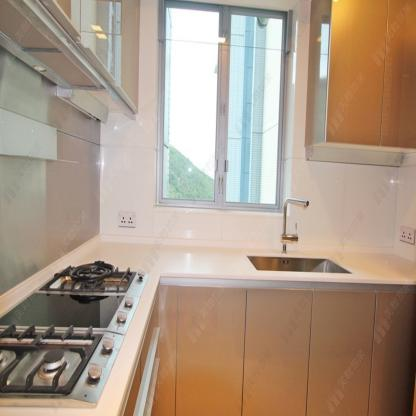Faucet: (278, 190, 311, 254)
Sink: (232, 248, 372, 280)
Stove: (0, 250, 166, 415)
